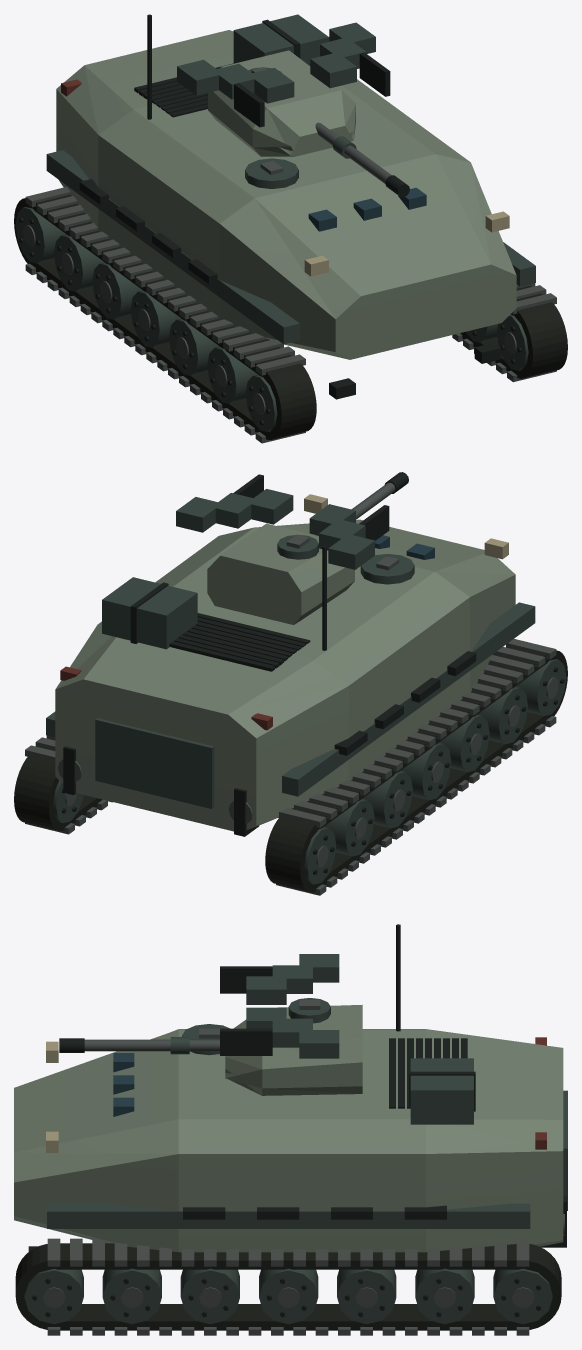
The model's file is ifv.glb.
The picture shows the model from 3 angles, top to bottom: view 1: azimuth 30°, elevation 25°; view 2: azimuth 150°, elevation 25°; view 3: azimuth 270°, elevation 25°; orthographic projection.
Parts seen in each view (by area): view 1: armor (×2), equipment (×3), glass; view 2: armor (×2), equipment (×3), glass; view 3: armor (×2), equipment (×3), glass.
Part boxes in pixels (x1,y1,x2,y2): armor (×2): (56, 30, 516, 359); equipment (×3): (14, 14, 567, 443); glass: (308, 187, 426, 231); armor (×2): (55, 519, 515, 831); equipment (×3): (14, 472, 567, 895); glass: (375, 535, 434, 559); armor (×2): (14, 1004, 563, 1252); equipment (×3): (15, 924, 567, 1335); glass: (113, 1053, 134, 1116).
Bounding box in the file's own units: 3.31 × 3.06 × 5.24.
